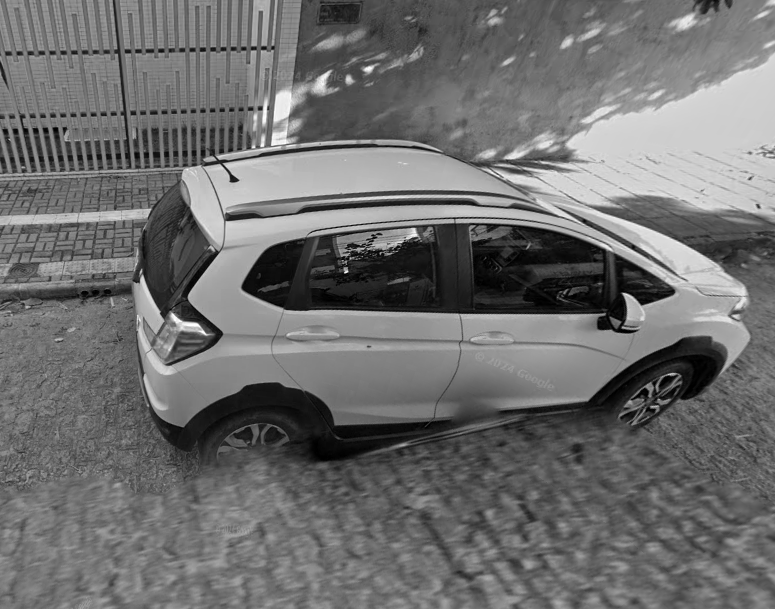car: (126, 131, 757, 492)
